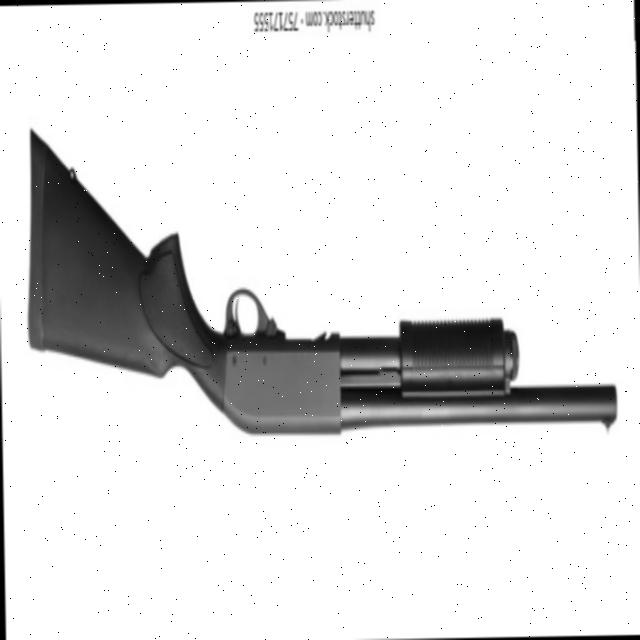Shotgun: (14, 111, 622, 488)
